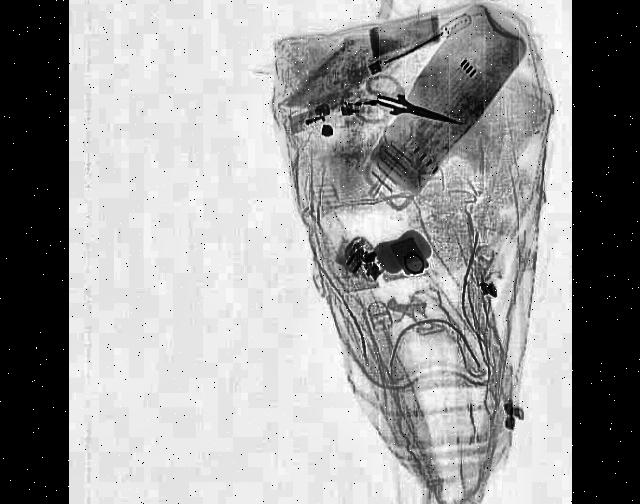Knife: (372, 90, 458, 137)
